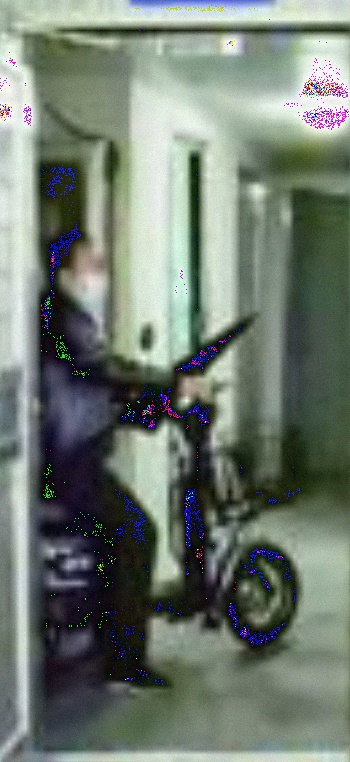ebike: (46, 322, 306, 687)
person: (42, 224, 226, 697)
